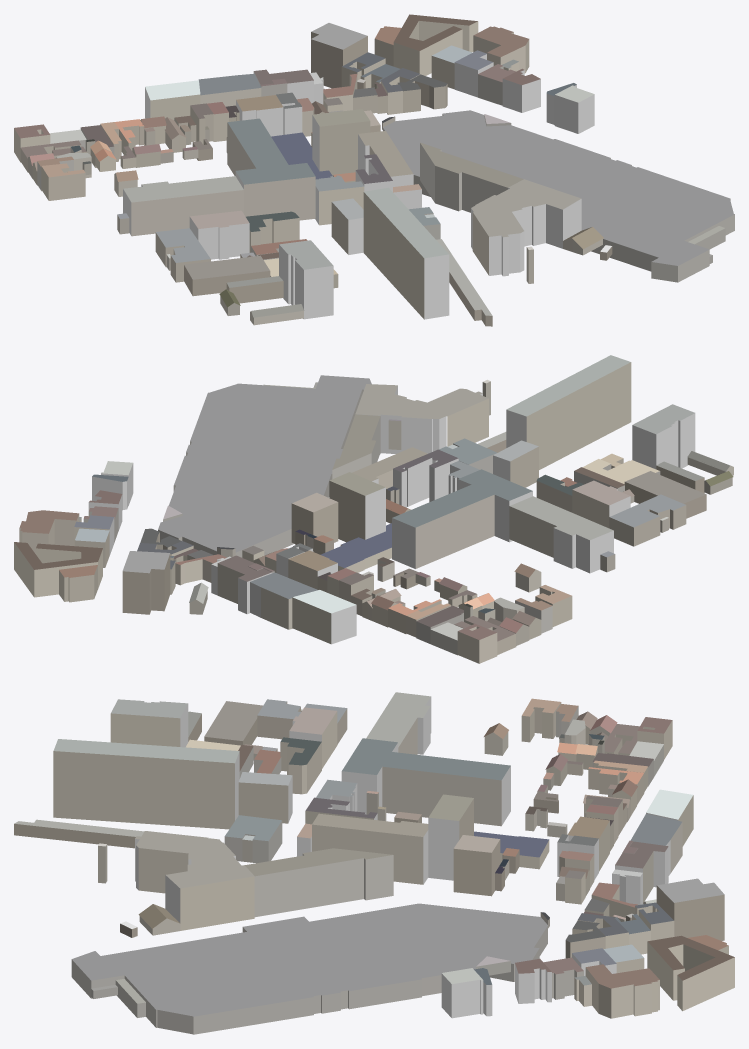
3 renders of one model, top to bottom at view 1: azimuth 30°, elevation 25°; view 2: azimuth 150°, elevation 25°; view 3: azimuth 270°, elevation 25°, orthographic. The views are drawn at different scales.
Parts seen in each view (by area): view 1: tuile; view 2: tuile; view 3: tuile.
Boxes of the visible parts, x1=… form: tuile: x1=14, y1=14, x2=734, y2=326; tuile: x1=14, y1=355, x2=733, y2=663; tuile: x1=14, y1=692, x2=734, y2=1034.
Bounding box in the file's own units: 270 × 45.13 × 294.
